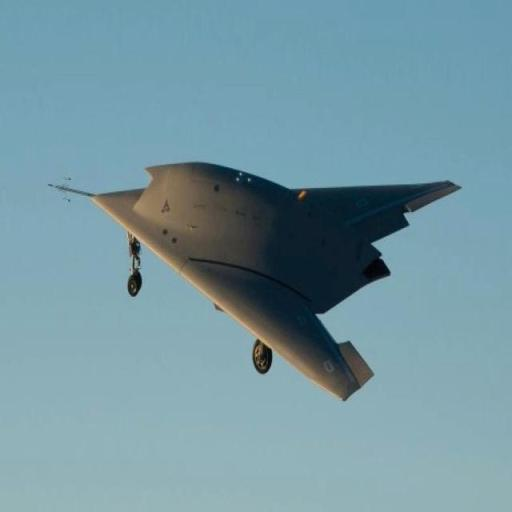uav: (75, 148, 465, 412)
